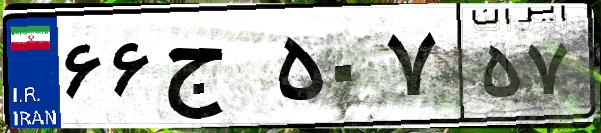0: (330, 28, 385, 110)
5: (270, 28, 330, 110), (475, 38, 525, 113)
6: (57, 26, 110, 100), (110, 28, 158, 98)
7: (385, 28, 445, 110), (525, 38, 570, 115)
ج: (158, 20, 270, 120)
